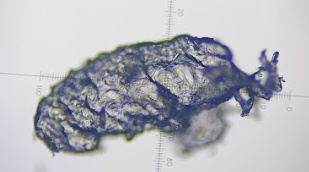microplastic: (31, 31, 278, 158), (257, 46, 287, 93), (231, 88, 256, 118)
